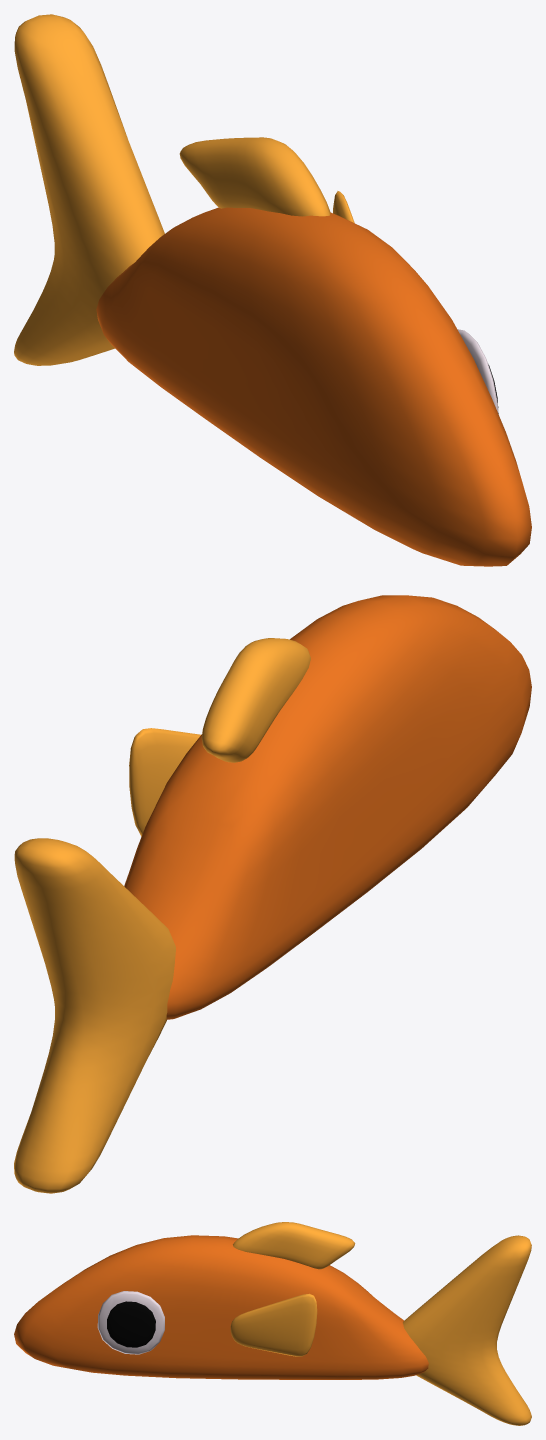
File: Blue.fbx
3 renders of one model, top to bottom at view 1: azimuth 30°, elevation 25°; view 2: azimuth 150°, elevation 25°; view 3: azimuth 270°, elevation 25°, orthographic. The views are drawn at different scales.
Parts seen in each view (by area): view 1: Cube; view 2: Cube; view 3: Cube.
Part boxes in pixels (x1,y1,x2,y2): Cube: (14, 14, 531, 566); Cube: (14, 595, 531, 1193); Cube: (14, 1222, 531, 1425).
Size of the model in its own units: 121 by 255 by 594.
